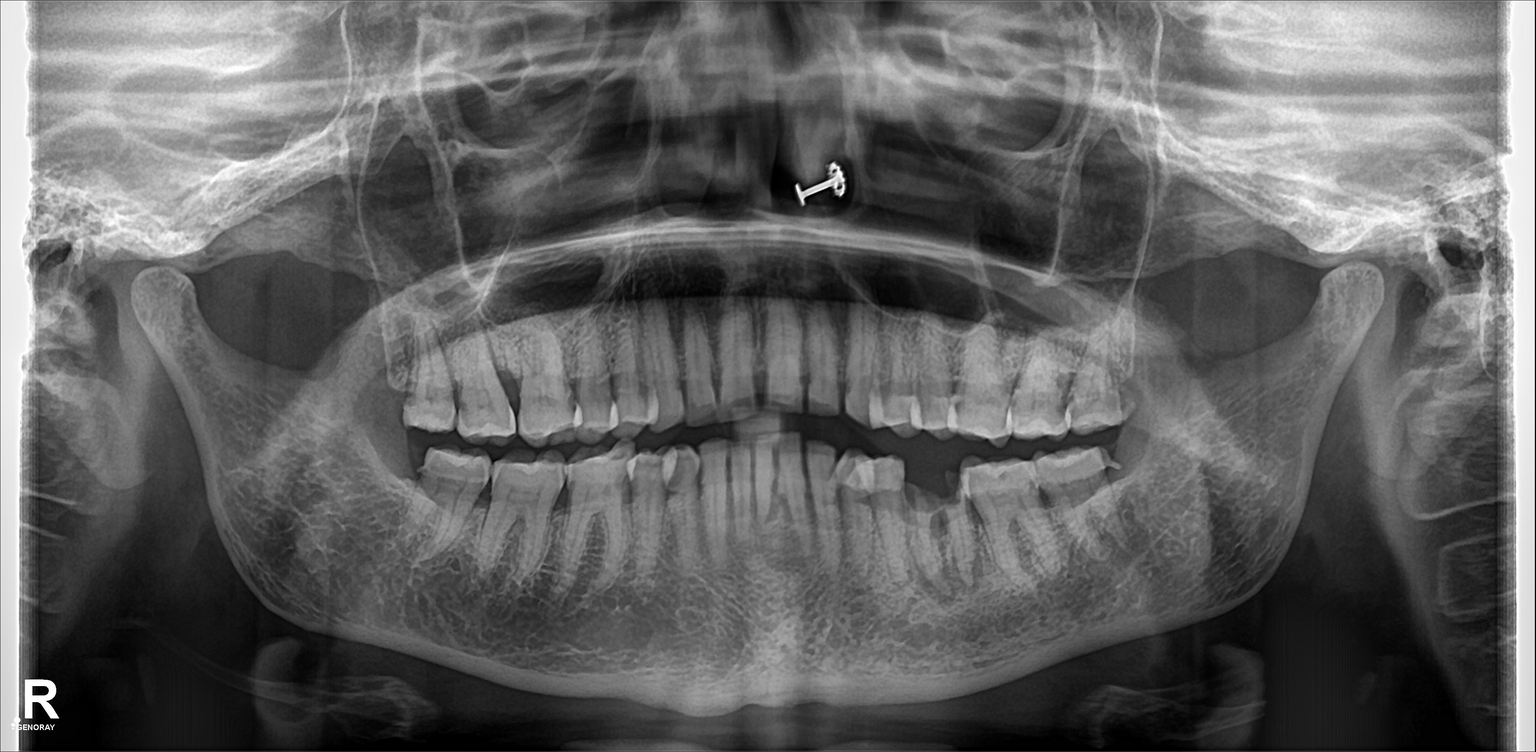Dental Caries: (905, 463, 967, 524)
Missing Tooth: (365, 432, 423, 518), (363, 335, 410, 401)
Retained Root: (901, 449, 967, 590)
